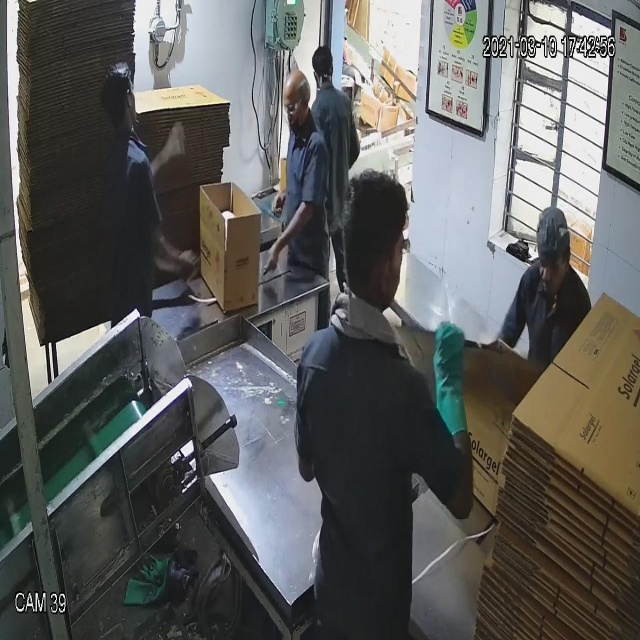Guantes: (426, 319, 478, 455)
Sin_guantes: (252, 194, 327, 282), (147, 204, 210, 298), (141, 116, 191, 191)
